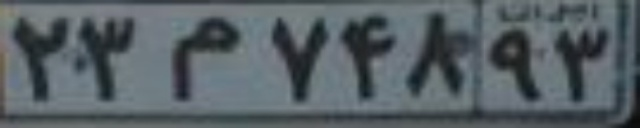2: (14, 16, 68, 102)
3: (80, 16, 132, 100), (554, 27, 612, 102)
4: (340, 15, 400, 97)
7: (270, 17, 333, 100)
8: (405, 14, 465, 94)
9: (487, 29, 541, 100)
mim: (169, 17, 240, 98)
